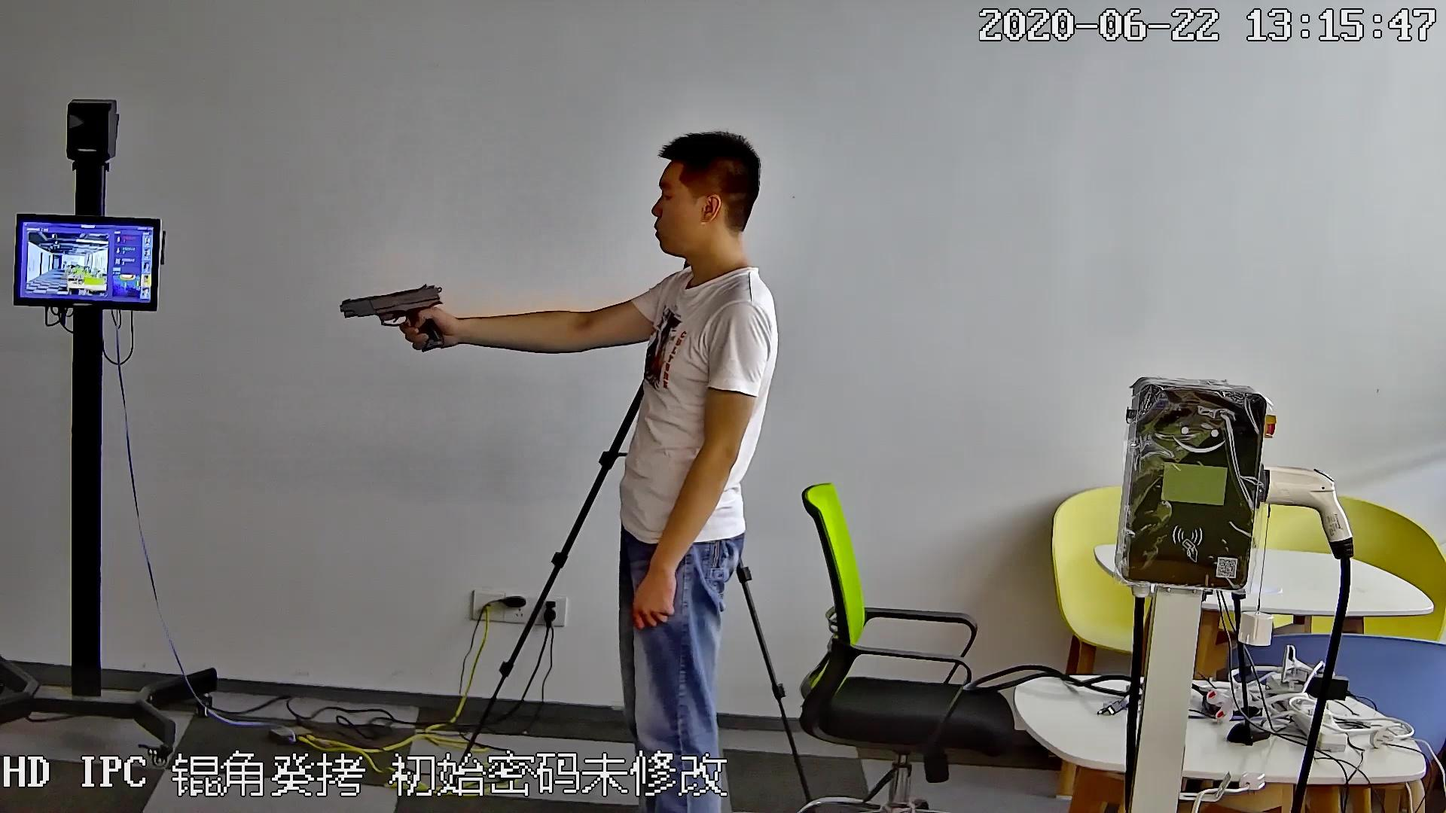gun: (320, 270, 452, 343)
